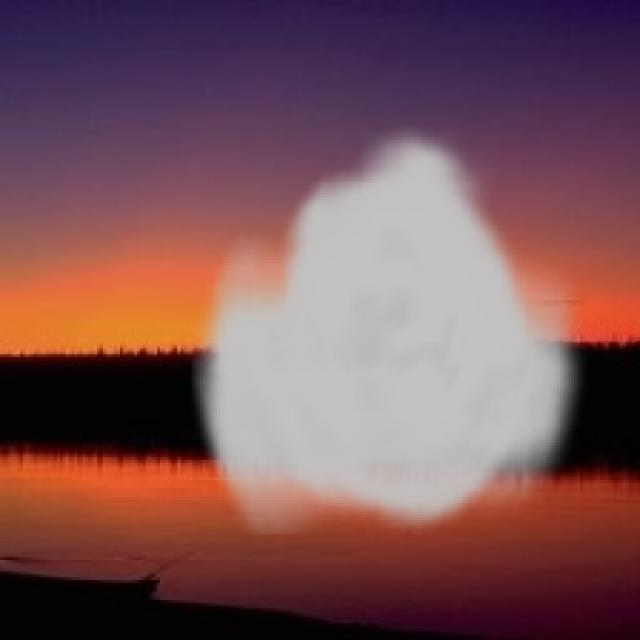Smoke: (192, 126, 592, 534)
